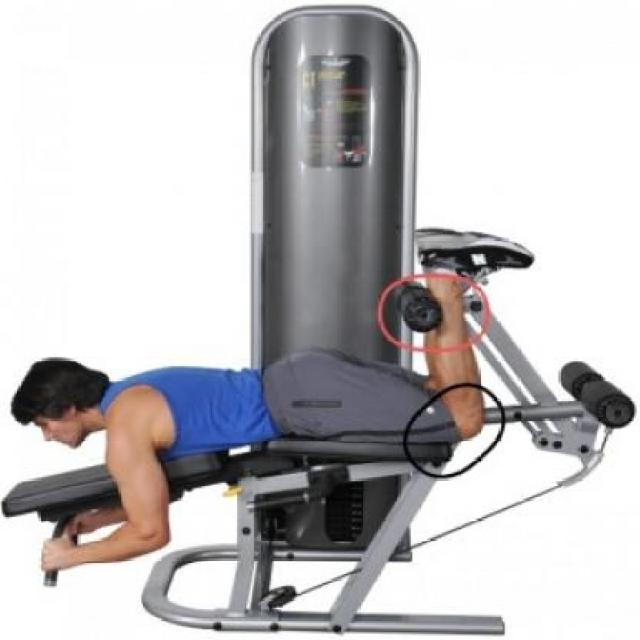reg curl machine: (2, 6, 636, 640)
